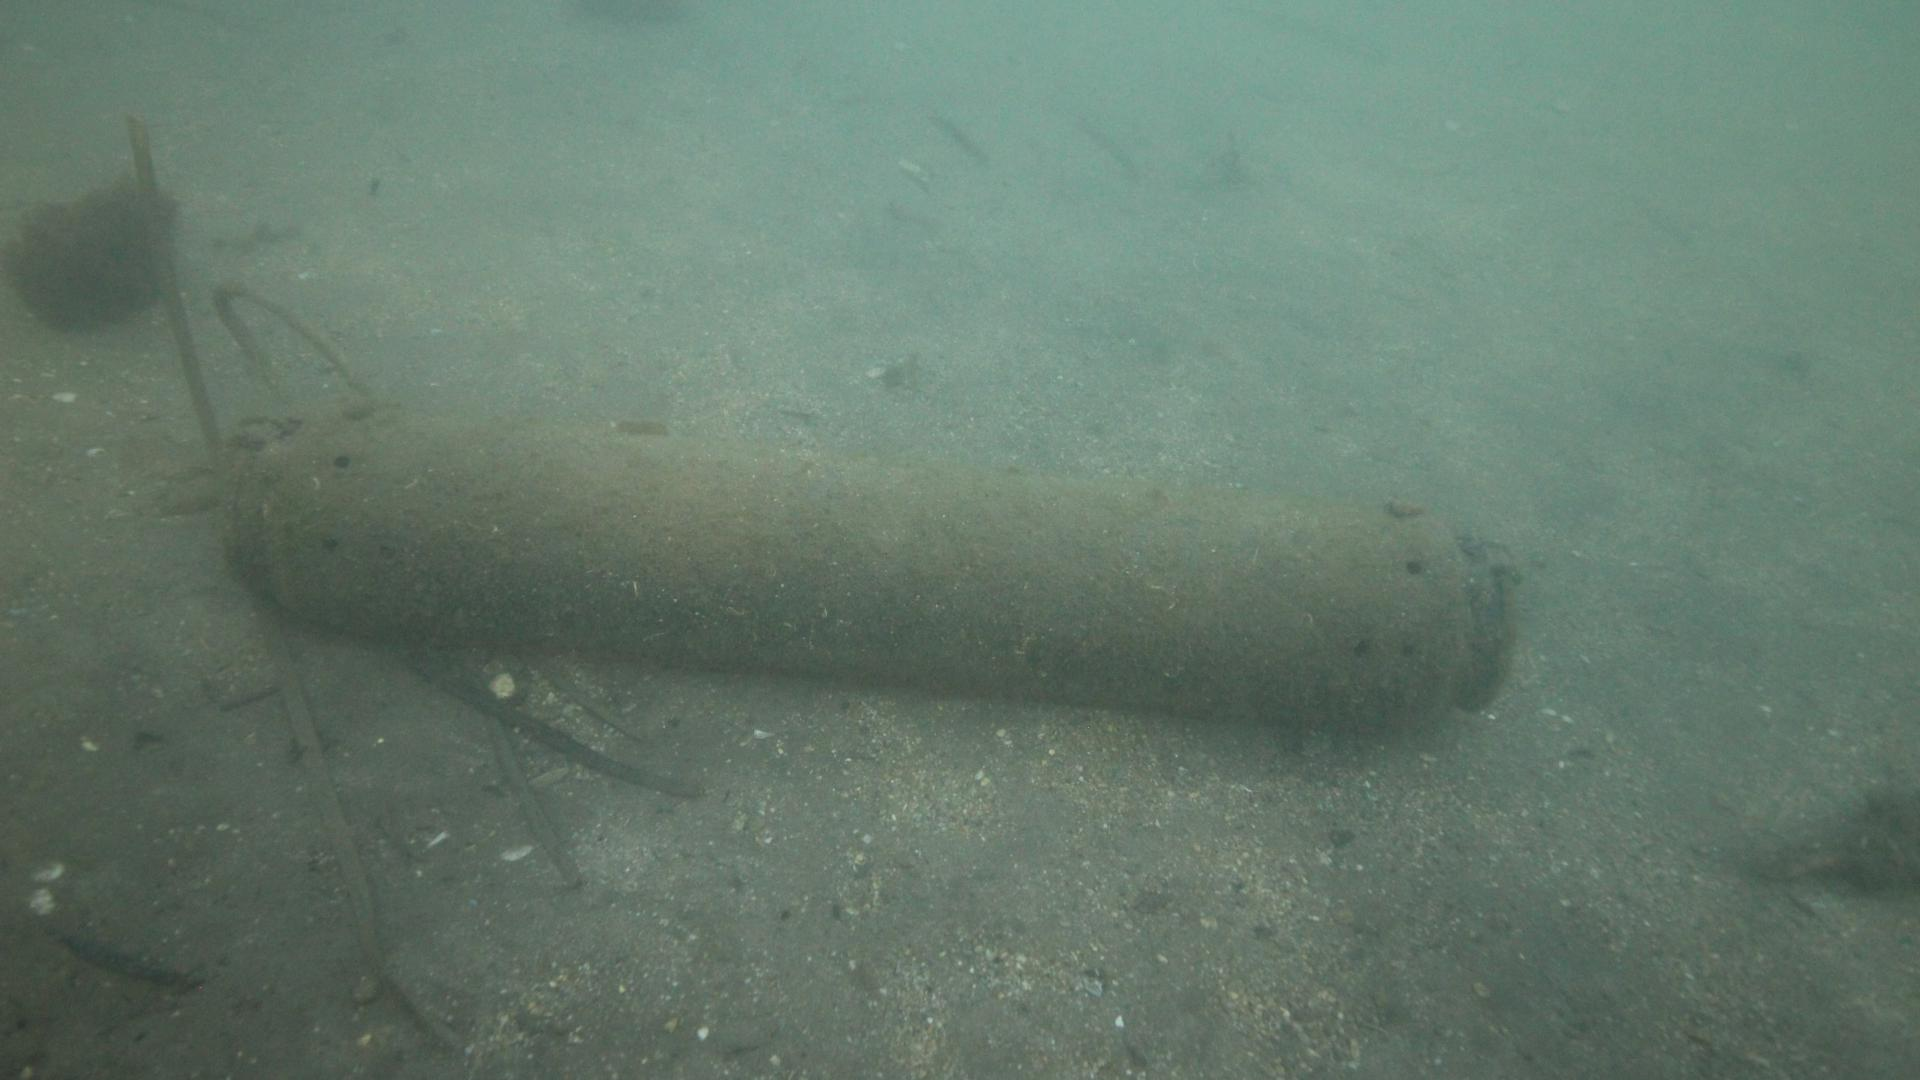eel fish trap: (218, 421, 1519, 725)
rope: (208, 276, 382, 415)
